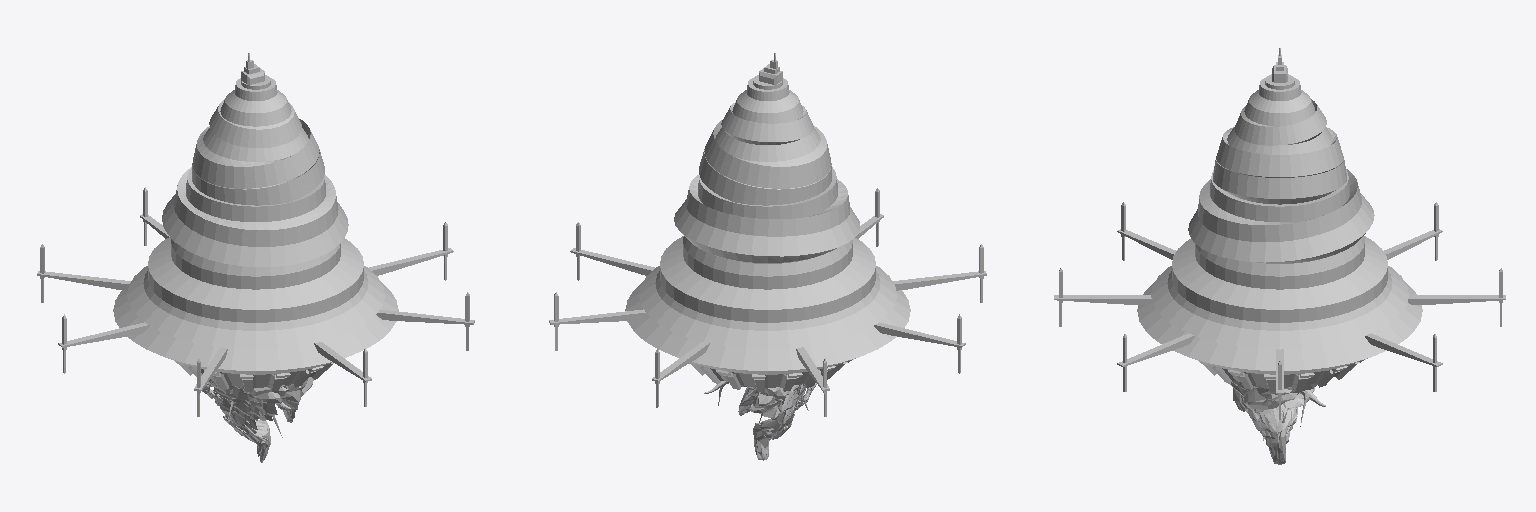
The model's file is Aincrad.obj.
3 renders of one model, left to right at view 1: azimuth 30°, elevation 25°; view 2: azimuth 150°, elevation 25°; view 3: azimuth 270°, elevation 25°, orthographic.
Visible parts, largest first — view 1: 본체, 외장기둥, 받침; view 2: 본체, 외장기둥, 받침; view 3: 본체, 외장기둥, 받침.
Boxes of the visible parts, x1=… form: 본체: x1=113, y1=75, x2=398, y2=374; 외장기둥: x1=37, y1=187, x2=474, y2=416; 받침: x1=175, y1=361, x2=333, y2=462; 본체: x1=625, y1=75, x2=910, y2=374; 외장기둥: x1=549, y1=188, x2=986, y2=416; 받침: x1=689, y1=359, x2=853, y2=460; 본체: x1=1137, y1=74, x2=1422, y2=374; 외장기둥: x1=1054, y1=202, x2=1505, y2=419; 받침: x1=1199, y1=359, x2=1365, y2=464.
Bounding box in the file's own units: 476 × 480 × 476.